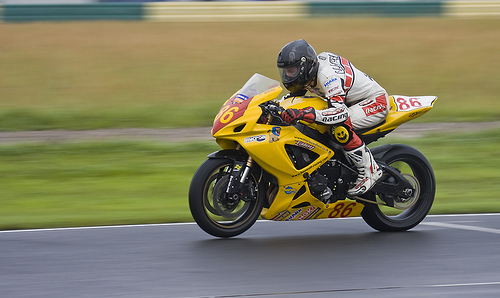helmet: (272, 43, 317, 84)
